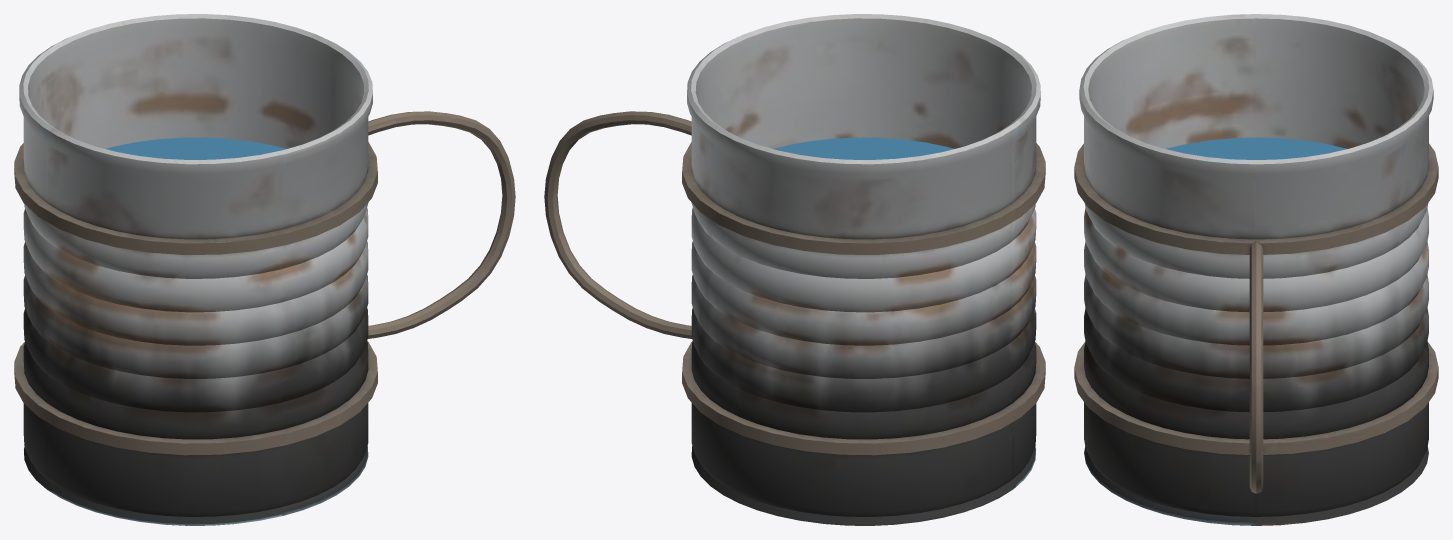
Rendered from caneca_lata_agua_limpa.glb.
3 views of the same model, side by side, from view 1: azimuth 30°, elevation 25°; view 2: azimuth 150°, elevation 25°; view 3: azimuth 270°, elevation 25° (orthographic).
Visible parts, largest first — view 1: lata, agua; view 2: lata, agua; view 3: lata, agua.
Boxes of the visible parts, left/top/right/bottom form: lata: left=14, top=14, right=515, bottom=525; agua: left=106, top=137, right=286, bottom=159; lata: left=544, top=14, right=1045, bottom=525; agua: left=773, top=137, right=953, bottom=159; lata: left=1074, top=14, right=1438, bottom=525; agua: left=1166, top=137, right=1346, bottom=159.
Bounding box in the file's own units: 0.1196 × 0.089 × 0.0792.
Materials: 2 (1 with a texture image).
